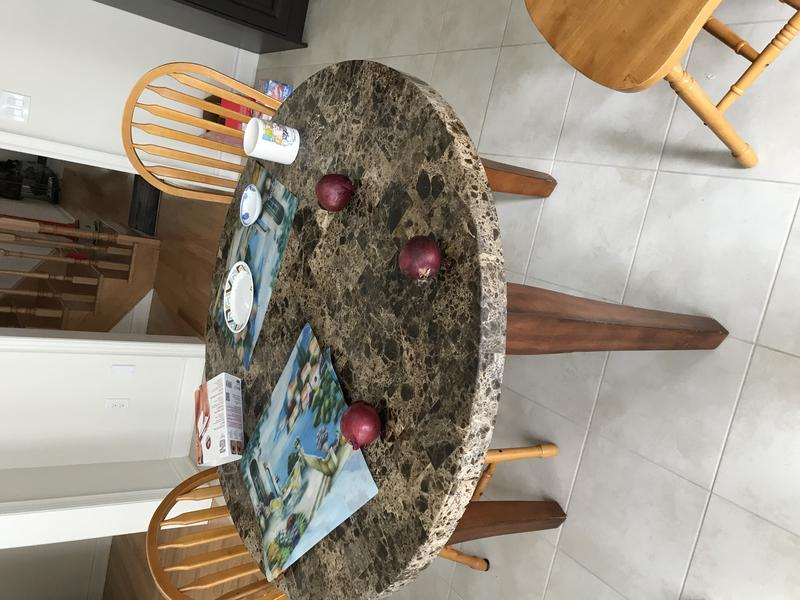purple_onion: (339, 397, 391, 456), (388, 232, 446, 284), (314, 170, 357, 215)
